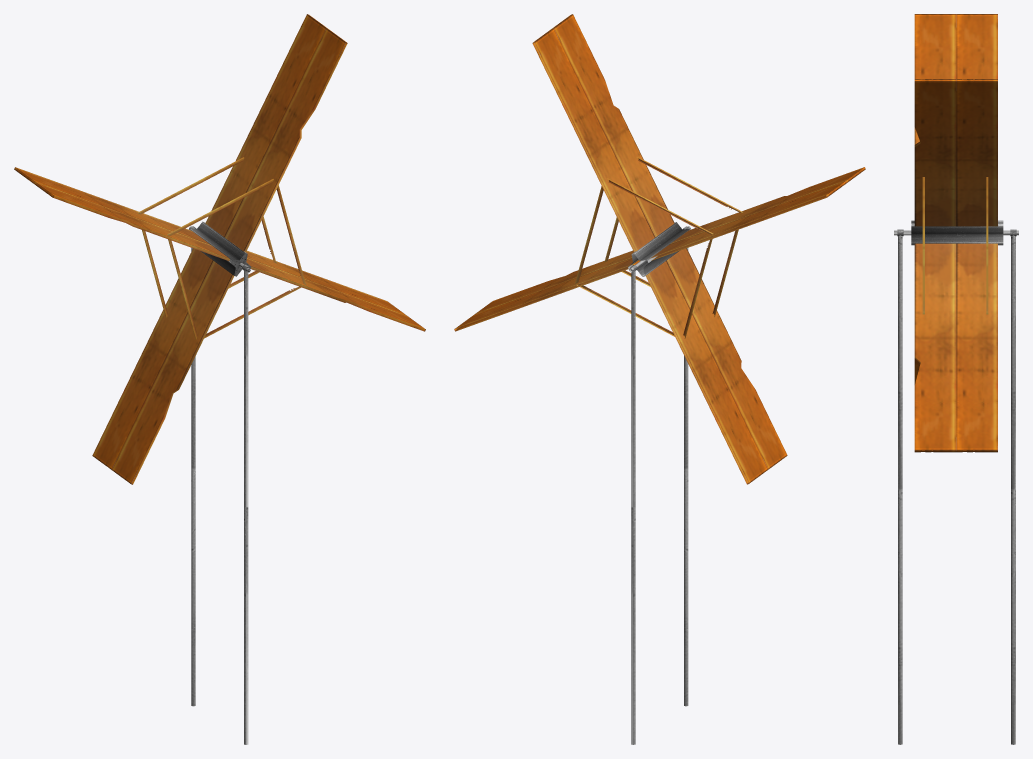
File: spining platform2.FBX
3 views of the same model, side by side, from view 1: azimuth 30°, elevation 25°; view 2: azimuth 150°, elevation 25°; view 3: azimuth 270°, elevation 25° (orthographic). The views are drawn at different scales.
Parts seen in each view (by area): view 1: Box005, Cylinder002, Cylinder004; view 2: Box005, Cylinder004, Cylinder002; view 3: Box005, Cylinder004, Cylinder002.
Part boxes in pixels (x1=…): Box005: x1=14, y1=14, x2=425, y2=484; Cylinder002: x1=244, y1=270, x2=248, y2=744; Cylinder004: x1=191, y1=248, x2=195, y2=706; Box005: x1=454, y1=14, x2=865, y2=484; Cylinder004: x1=631, y1=269, x2=635, y2=744; Cylinder002: x1=684, y1=248, x2=688, y2=706; Box005: x1=894, y1=14, x2=1018, y2=452; Cylinder004: x1=1011, y1=235, x2=1015, y2=744; Cylinder002: x1=898, y1=235, x2=902, y2=744.
Size of the model in its own units: 16.68 by 28.64 by 4.5.
Materials: 2 (2 with a texture image).
